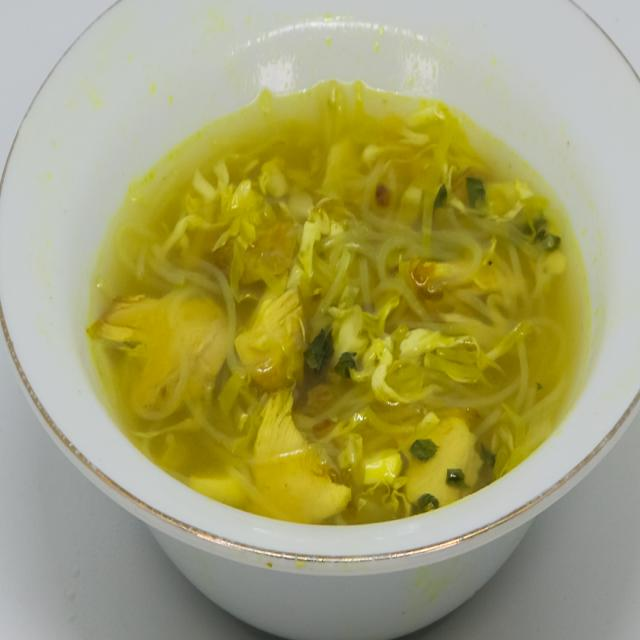Soto-Lamongan: (80, 54, 605, 536)
